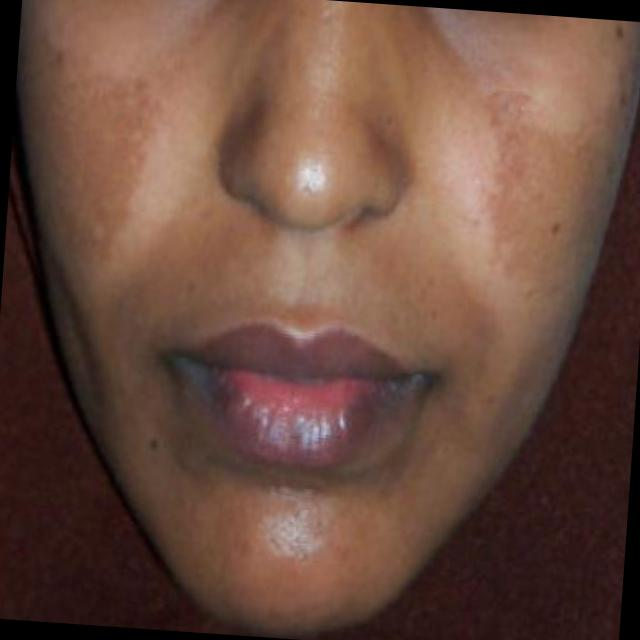melasma: (114, 205, 513, 356), (440, 75, 632, 385), (18, 24, 181, 292)
